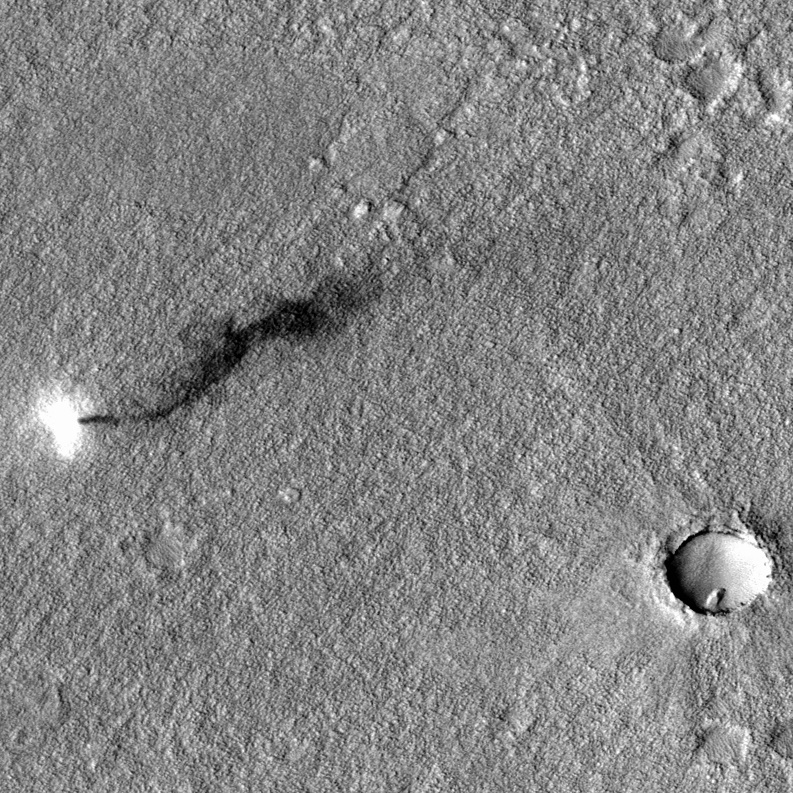dust_devil: (33, 269, 383, 460)
